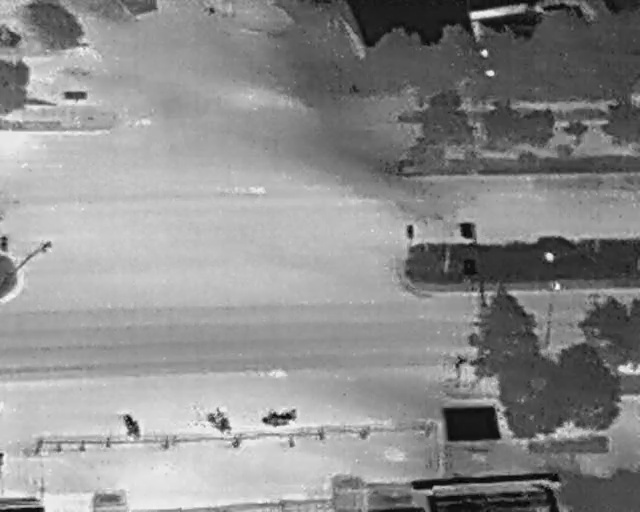Bicycle: (202, 403, 236, 440), (118, 410, 147, 444), (261, 409, 298, 428)
